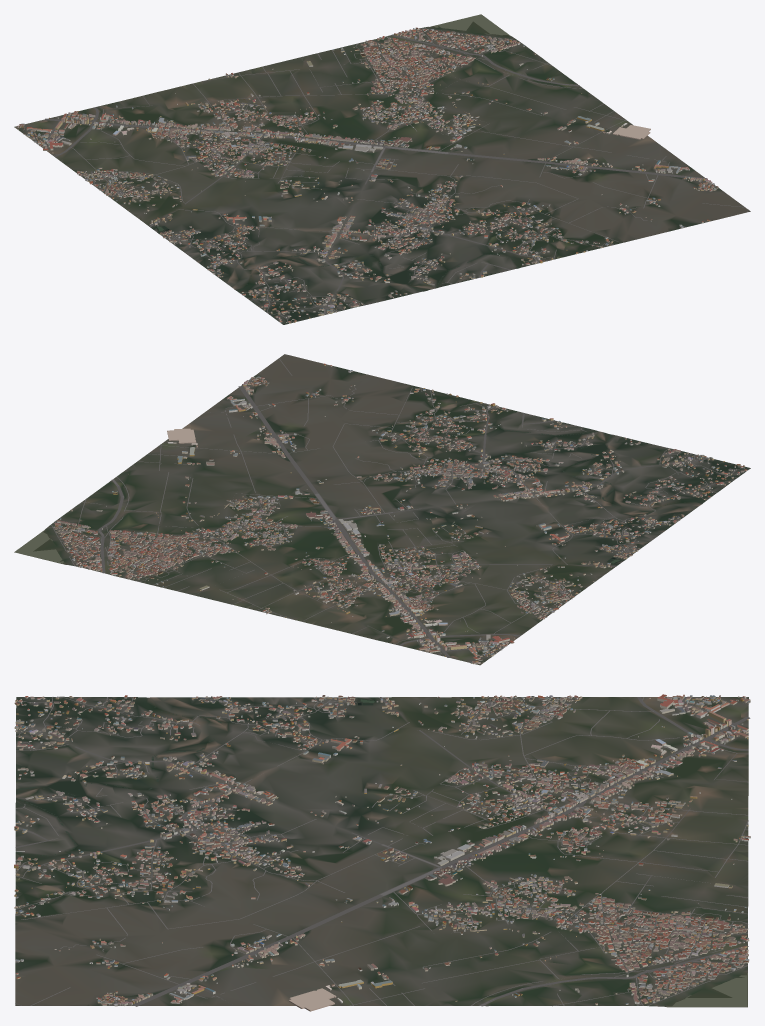
The picture shows the model from 3 angles, top to bottom: view 1: azimuth 30°, elevation 25°; view 2: azimuth 150°, elevation 25°; view 3: azimuth 270°, elevation 25°; orthographic projection. The views are drawn at different scales.
Parts seen in each view (by area): view 1: ground, buildings, roads, water; view 2: ground, buildings, roads, water; view 3: ground, buildings, roads, water.
Part boxes in pixels (left/top/right/bottom): ground: left=14, top=21, right=750, bottom=324; buildings: left=17, top=27, right=718, bottom=323; roads: left=25, top=28, right=748, bottom=322; water: left=157, top=14, right=518, bottom=291; ground: left=14, top=354, right=750, bottom=665; buildings: left=53, top=363, right=747, bottom=664; roads: left=51, top=355, right=743, bottom=662; water: left=14, top=411, right=692, bottom=564; ground: left=15, top=696, right=748, bottom=1007; buildings: left=14, top=694, right=750, bottom=1011; roads: left=15, top=696, right=750, bottom=1006; water: left=15, top=697, right=747, bottom=1006.
Bounding box in the file's own units: 2862 × 35.11 × 2820.
